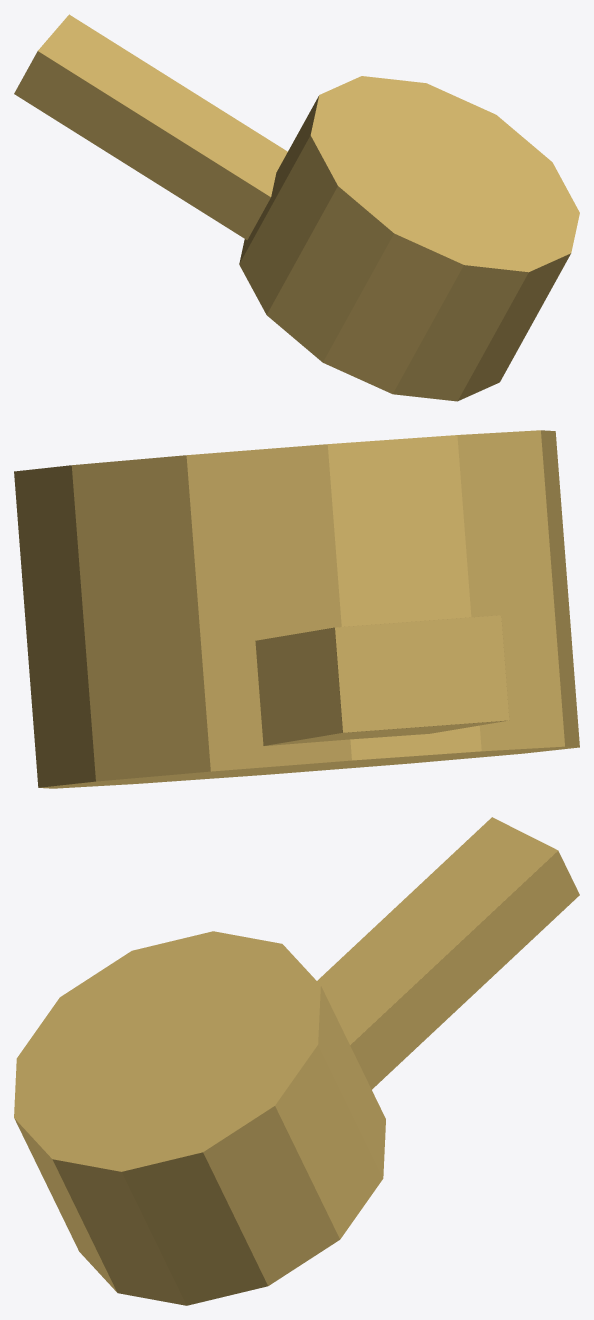
The model's file is channel.glb.
3 views of the same model, one above another, from view 1: azimuth 30°, elevation 25°; view 2: azimuth 150°, elevation 25°; view 3: azimuth 270°, elevation 25° (orthographic). The views are drawn at different scales.
Visible parts, largest first — view 1: fmm_sel_grip, fmm_sel_pointer; view 2: fmm_sel_grip, fmm_sel_pointer; view 3: fmm_sel_grip, fmm_sel_pointer.
Part boxes in pixels (x1,y1,x2,y2): fmm_sel_grip: [239, 76, 579, 401]; fmm_sel_pointer: [14, 14, 287, 239]; fmm_sel_grip: [14, 430, 579, 788]; fmm_sel_pointer: [255, 615, 509, 745]; fmm_sel_grip: [14, 931, 385, 1305]; fmm_sel_pointer: [317, 817, 579, 1089].
Bounding box in the file's own units: 0.0402 × 0.027 × 0.044.
